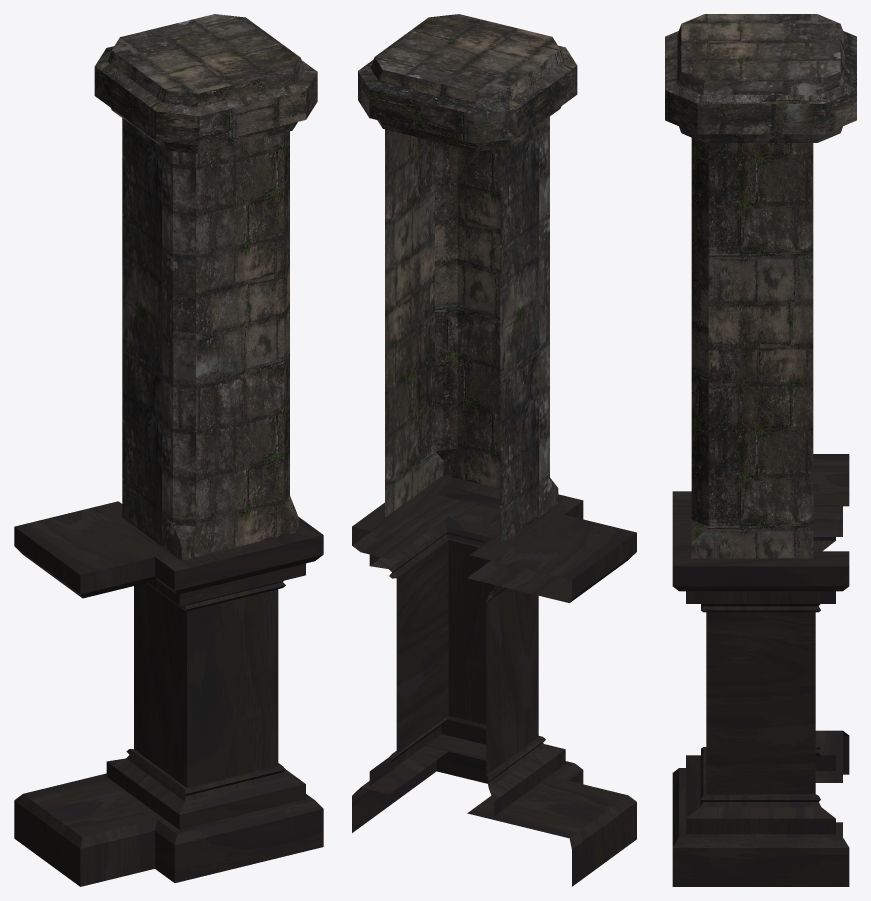
File: left_column.fbx
The picture shows the model from 3 angles, left to right: view 1: azimuth 30°, elevation 25°; view 2: azimuth 150°, elevation 25°; view 3: azimuth 270°, elevation 25°; orthographic projection. The views are drawn at different scales.
Visible parts, largest first — view 1: [Imported] L_column; view 2: [Imported] L_column; view 3: [Imported] L_column.
Boxes of the visible parts, left/top/right/bottom form: [Imported] L_column: left=14, top=14, right=323, bottom=886; [Imported] L_column: left=352, top=14, right=636, bottom=886; [Imported] L_column: left=665, top=14, right=856, bottom=886.
Bounding box in the file's own units: 395 × 1280 × 278.
Materials: 2 (2 with a texture image).
